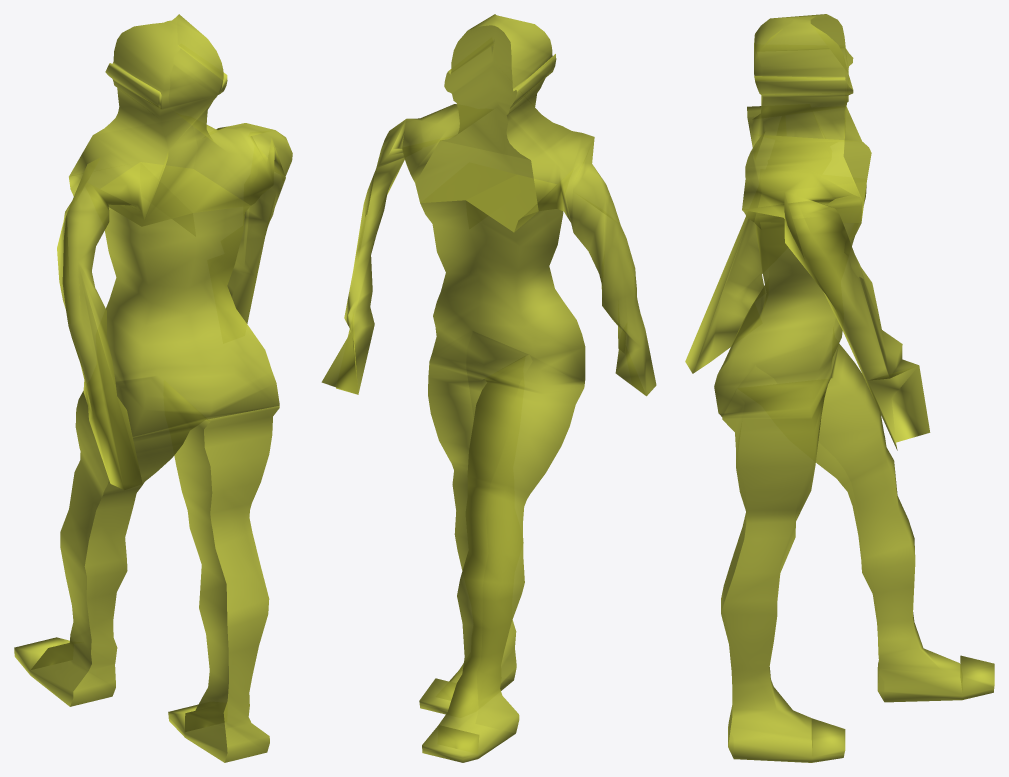
The model's file is woman_000010.obj.
3 views of the same model, side by side, from view 1: azimuth 30°, elevation 25°; view 2: azimuth 150°, elevation 25°; view 3: azimuth 270°, elevation 25° (orthographic). The views are drawn at different scales.
Parts seen in each view (by area): view 1: Cube_Cube.001; view 2: Cube_Cube.001; view 3: Cube_Cube.001.
Part boxes in pixels (bbox=[...]): Cube_Cube.001: bbox=[14, 14, 292, 762]; Cube_Cube.001: bbox=[321, 14, 656, 762]; Cube_Cube.001: bbox=[685, 14, 994, 762].
Bounding box in the file's own units: 3.51 × 9.95 × 3.91.
